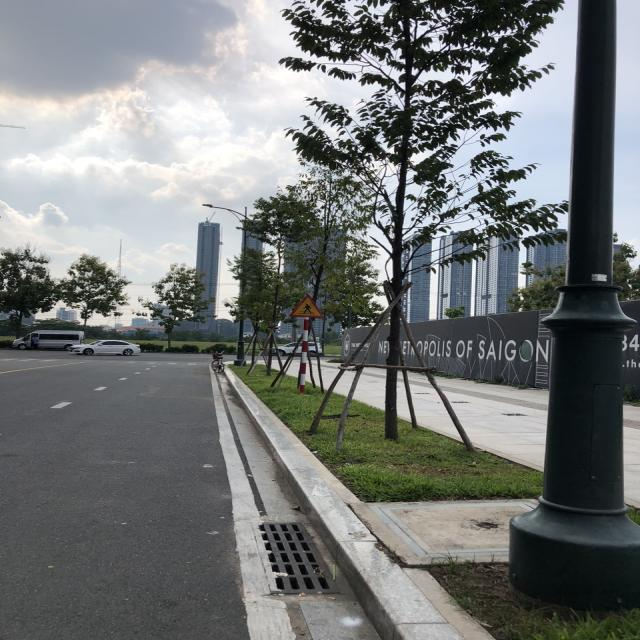Bien bao duong nguoi di bo cat ngang: (286, 292, 326, 324)
